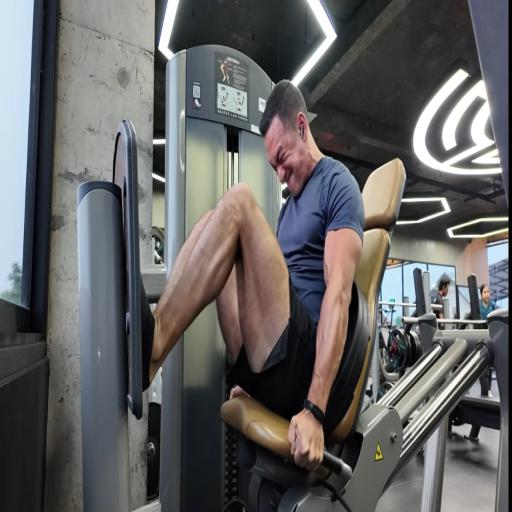Leg Press: (82, 184, 462, 498)
